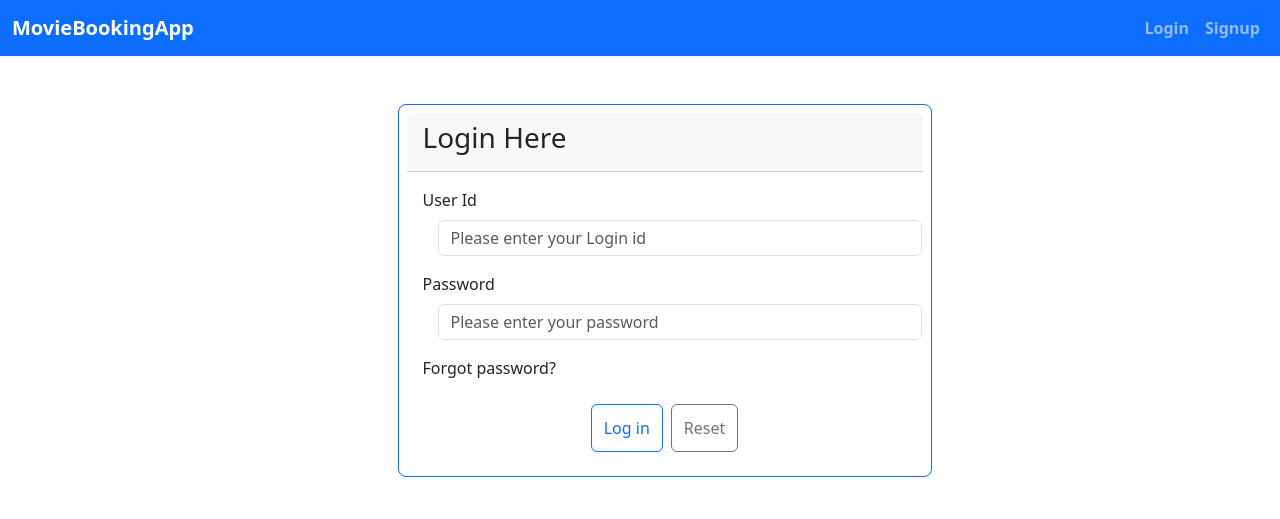
Test: Login Component › displays error message when password is empty
Type "user" into the field labelled "User Id".
click(680, 238); type("user")  # box [438,220,922,256]
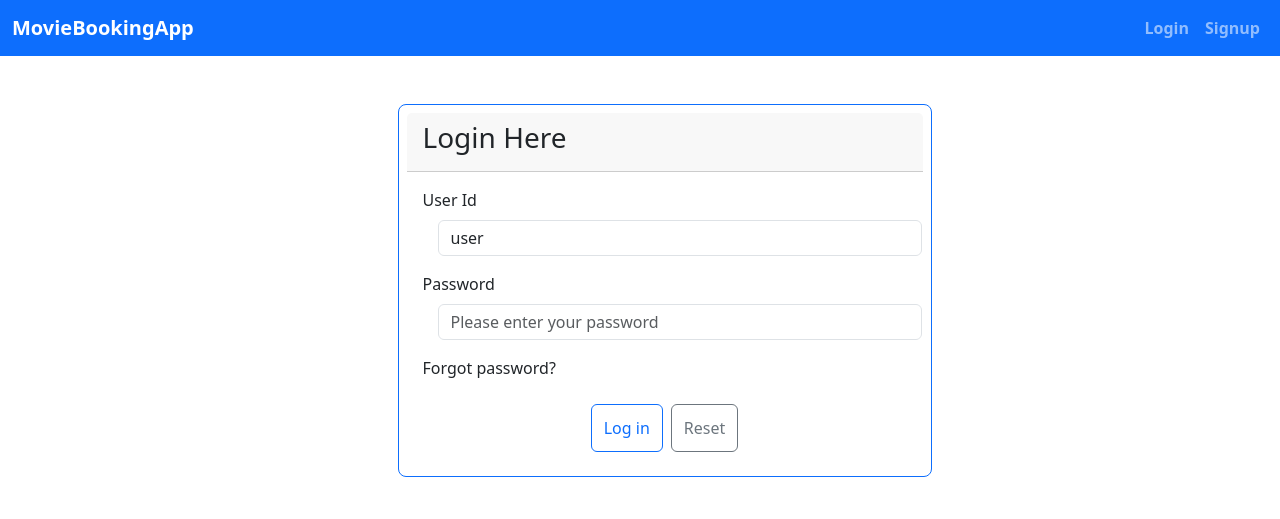
Click the button "Log in".
click(627, 428)  # box [591,404,663,452]
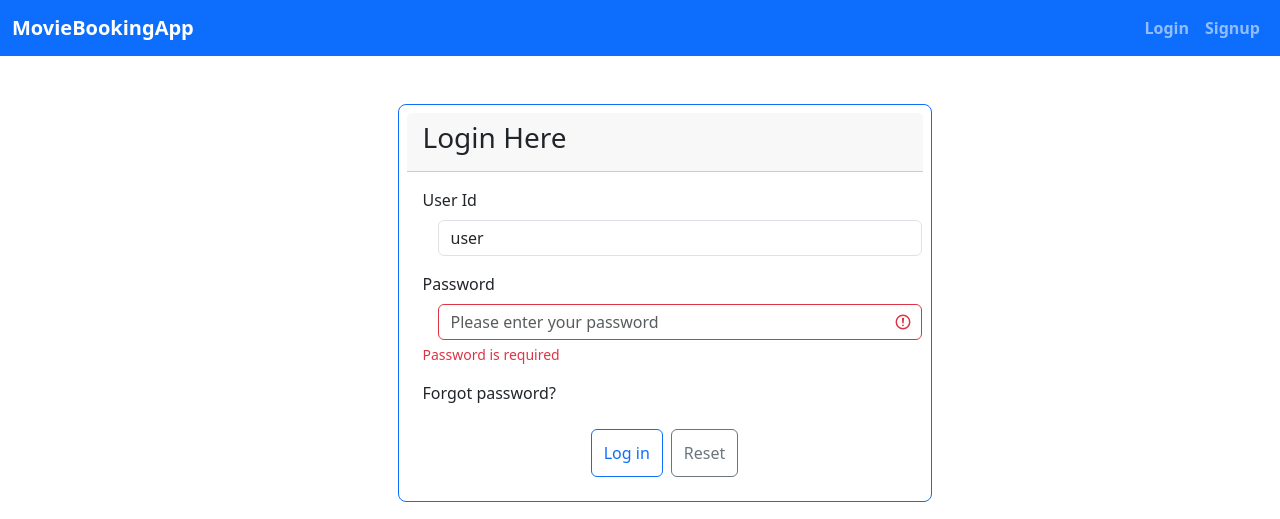
Expected: the text "Password is required" is shown, [422,345,560,364]
